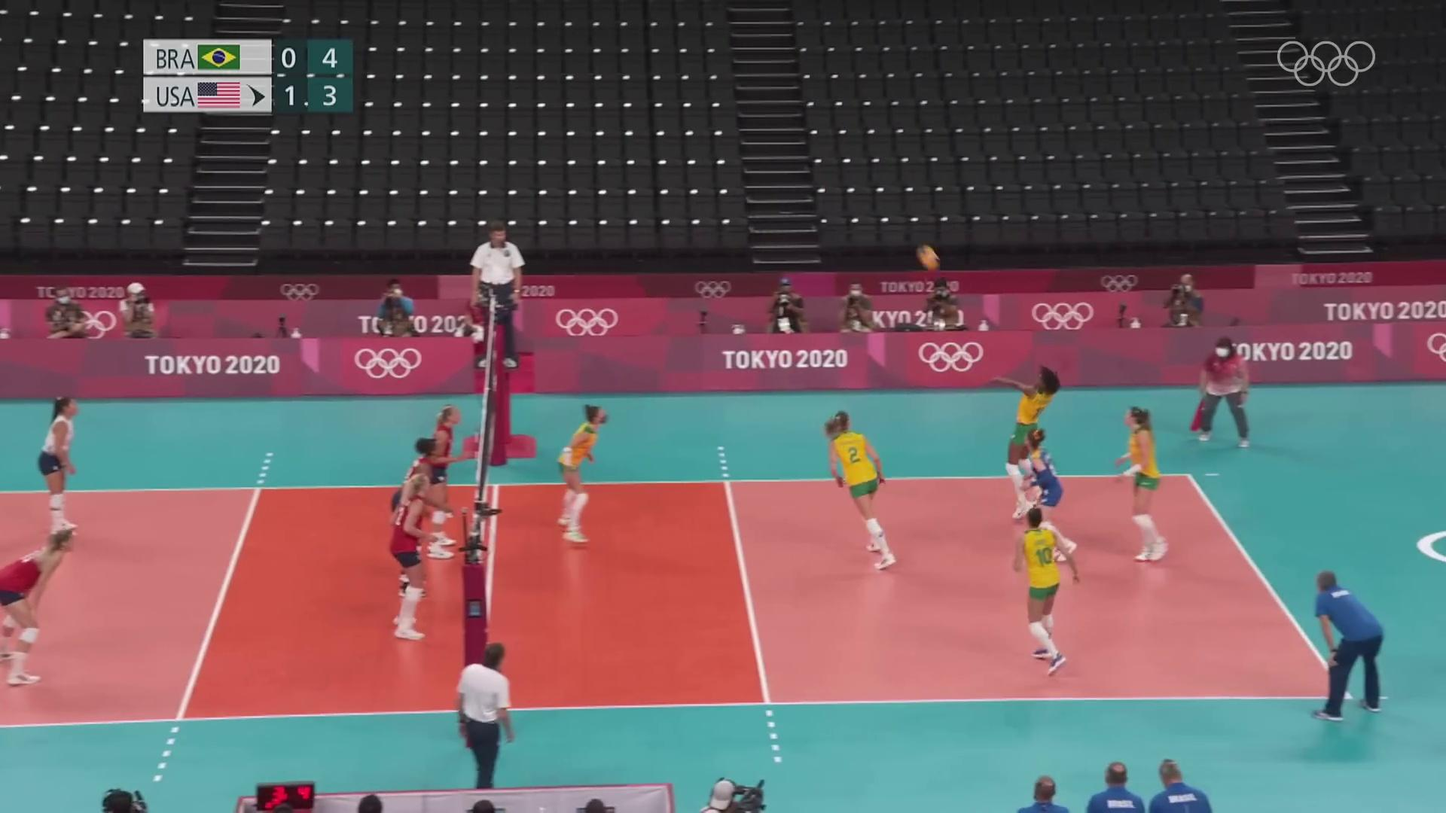player: (822, 413, 895, 570), (0, 535, 69, 692), (1014, 508, 1075, 676), (997, 364, 1067, 509), (1004, 424, 1071, 570), (1112, 407, 1172, 562), (415, 401, 472, 563), (388, 470, 439, 643), (554, 406, 617, 546), (399, 434, 448, 601), (36, 397, 90, 528)
refree: (455, 648, 521, 788), (468, 222, 530, 367), (1190, 336, 1260, 452)
